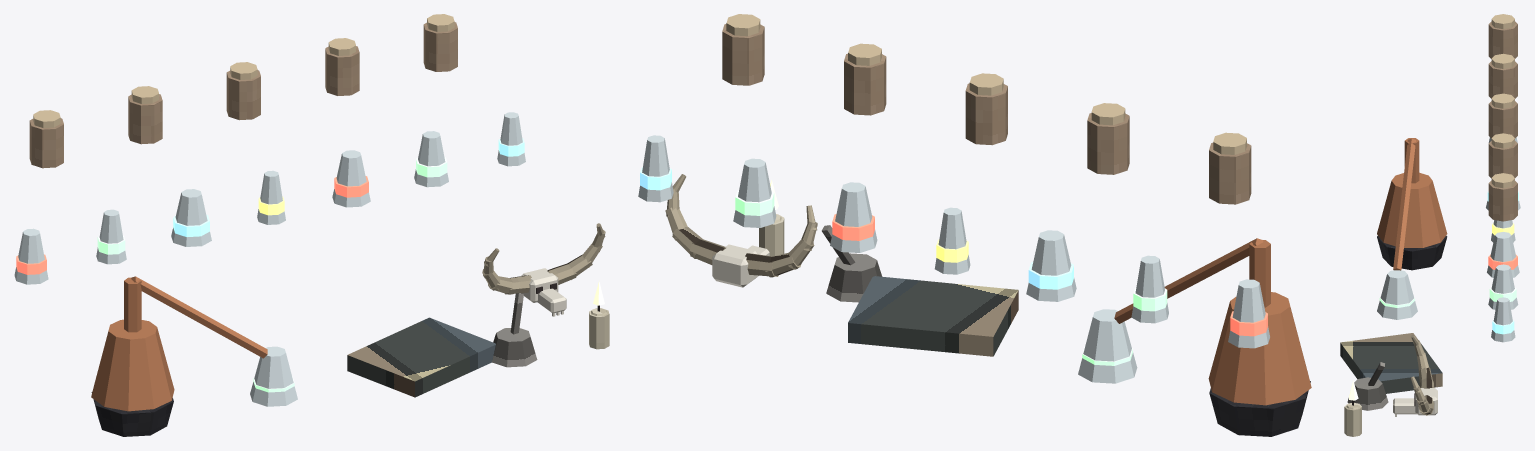
Rendered from alchemy_set.glb.
The picture shows the model from 3 angles, left to right: view 1: azimuth 30°, elevation 25°; view 2: azimuth 150°, elevation 25°; view 3: azimuth 270°, elevation 25°; orthographic projection. The views are drawn at different scales.
Parts seen in each view (by area): view 1: body; view 2: body; view 3: body.
Part boxes in pixels (box(x1,y1,x2,y2)): body: box(14, 14, 609, 436); body: box(638, 14, 1311, 436); body: box(1340, 14, 1520, 436).
Bounding box in the file's own units: 1.75 × 0.855 × 0.614.
17 materials, 7 textured.
